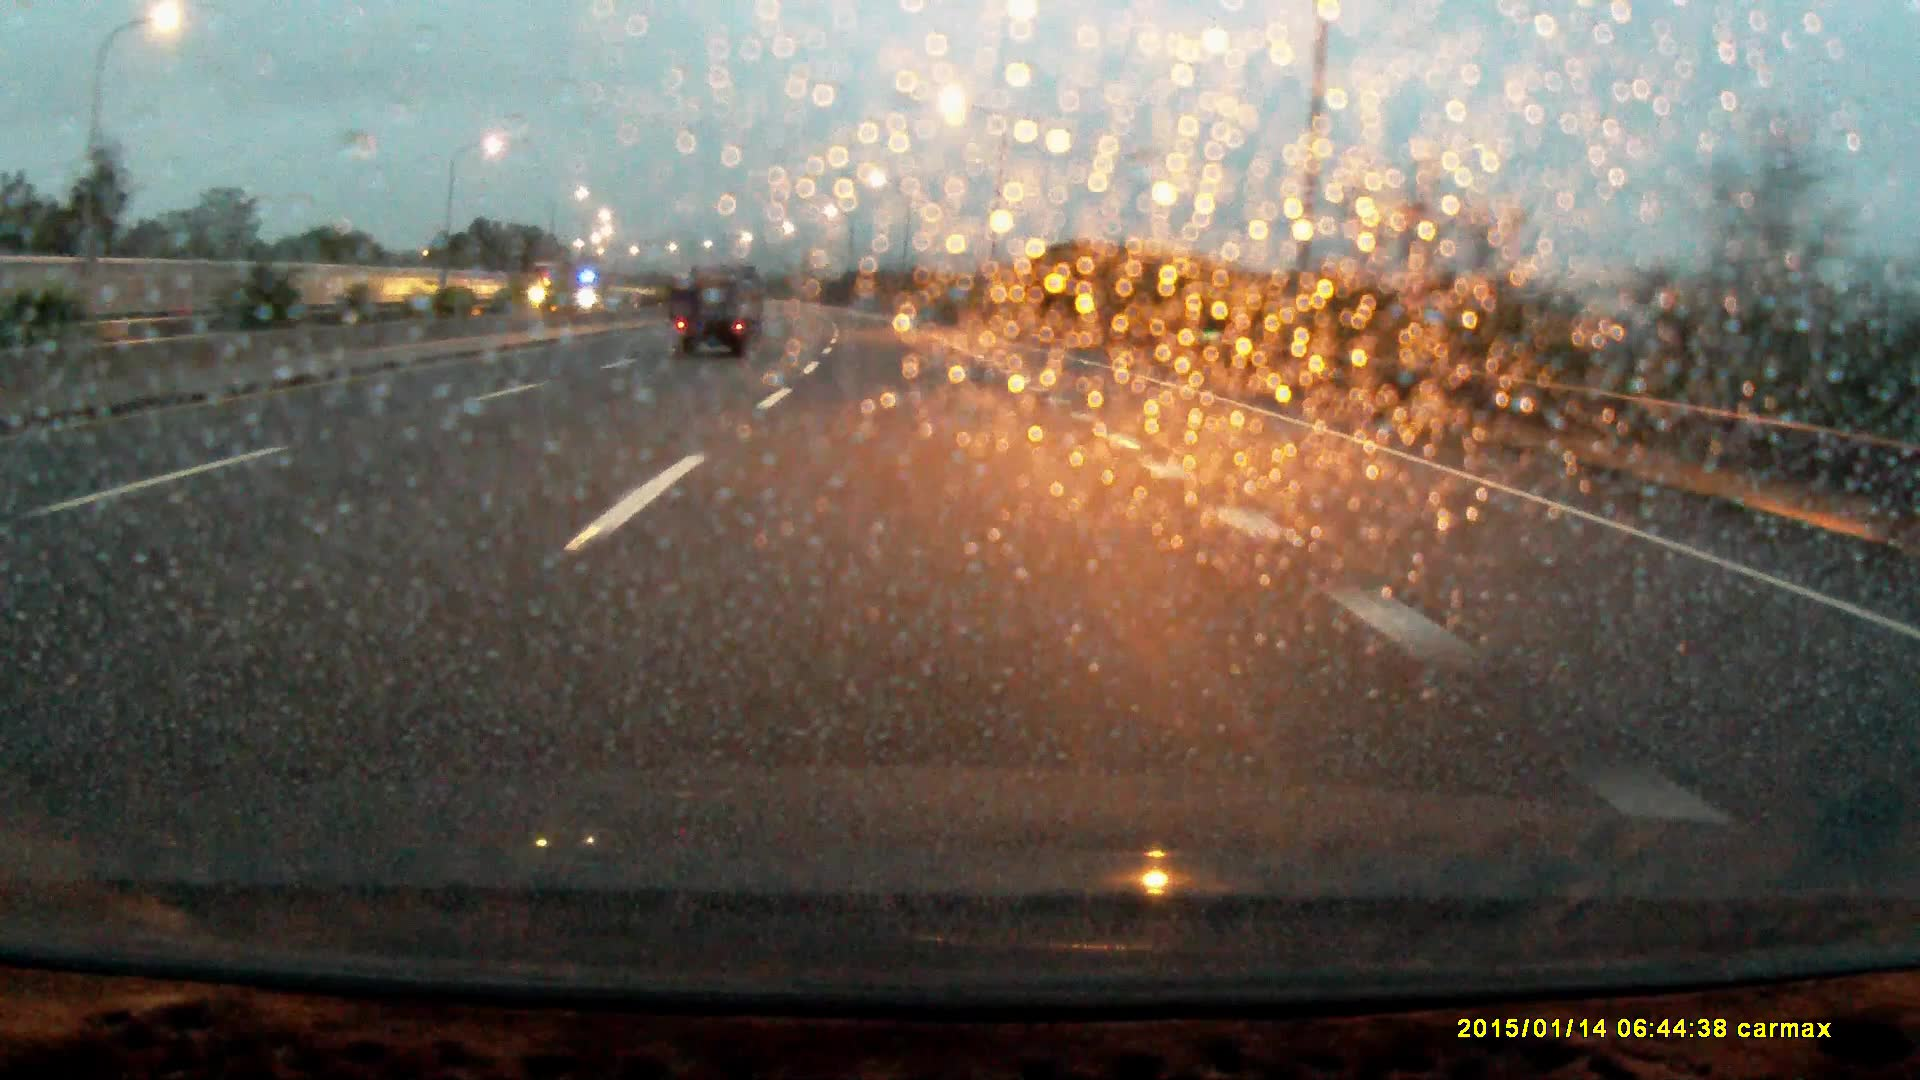vehicle: (675, 265, 762, 361), (518, 261, 578, 314)
